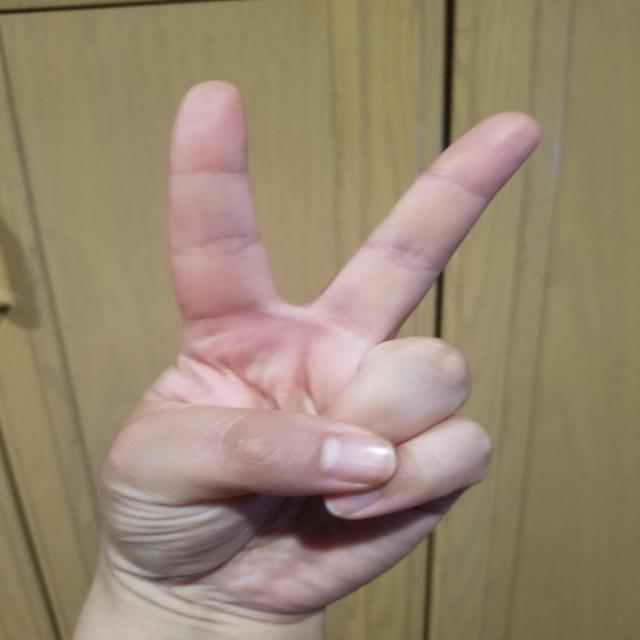V: (80, 72, 560, 616)
